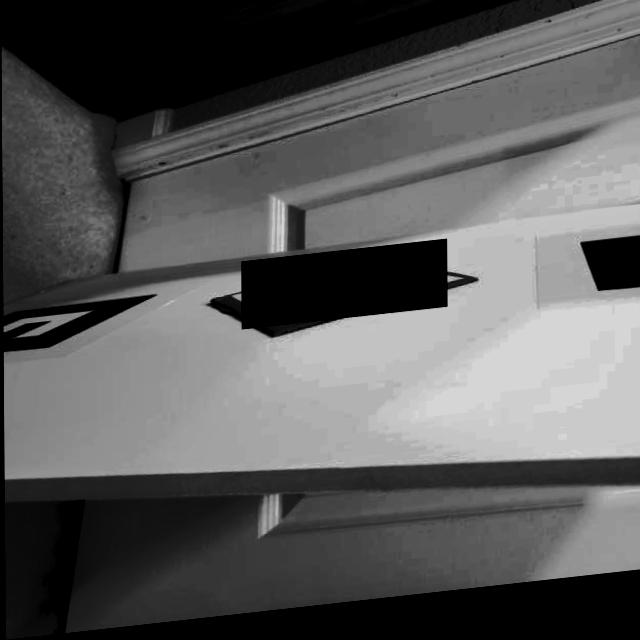qr_code: (240, 249, 446, 335)
